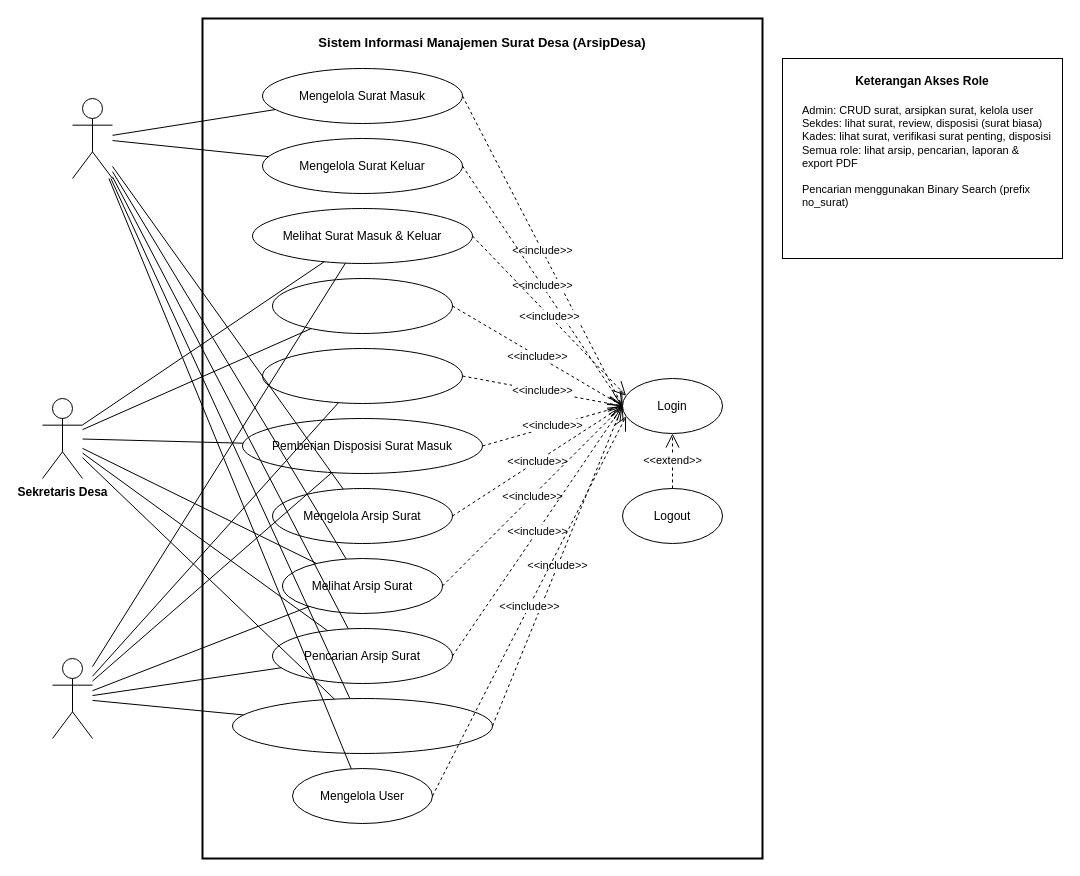
Some shapes in this 1080 by 876 pixel diagram are drawn without their labels. The centre of each missing label's shape, as x and y in pixels:
Admin: (x=92, y=138)
Kepala Desa: (x=72, y=698)
Melihat Rekapitulasi & Laporan Arsip Surat: (x=362, y=726)
Review Surat Masuk: (x=362, y=306)
Verifikasi Surat Penting: (x=362, y=376)
